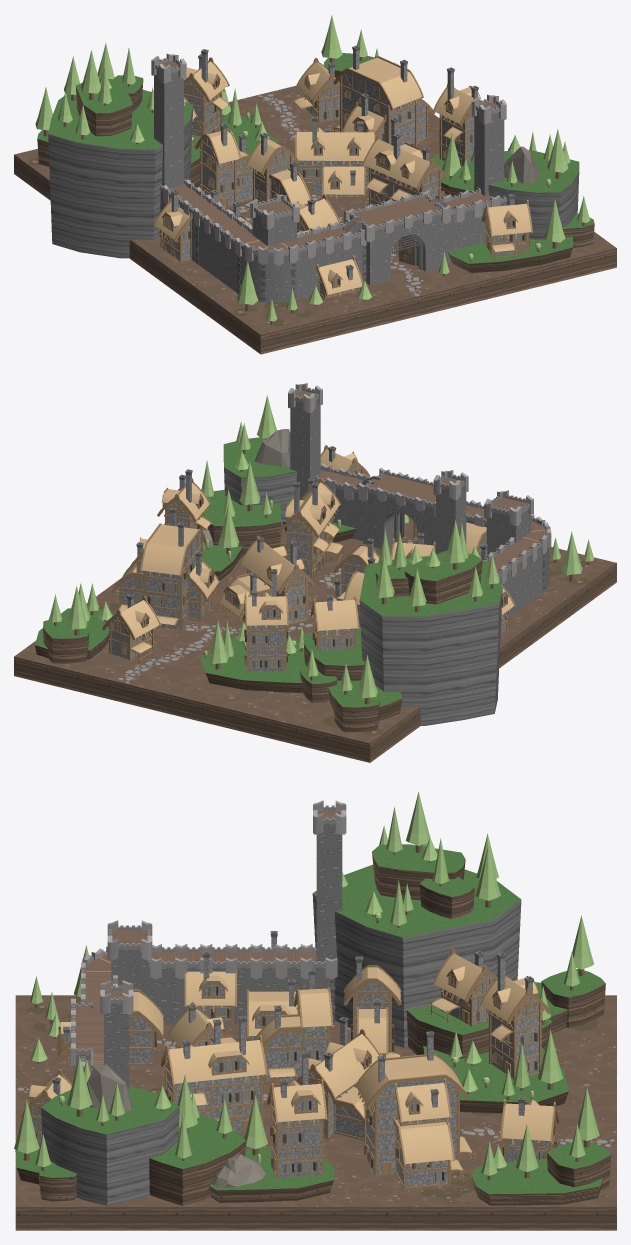
The model's file is castle_village.glb.
3 views of the same model, one above another, from view 1: azimuth 30°, elevation 25°; view 2: azimuth 150°, elevation 25°; view 3: azimuth 270°, elevation 25° (orthographic). The views are drawn at different scales.
Parts seen in each view (by area): view 1: pCube2216, pCube6441, group413_pCube3685, polySurface848, pCube6499, pCube3448, pCube6442, pCube6498, pCube3727, group119_pCube835, pCube6452, group119_pCube836 (+37 smaller); view 2: pCube2216, group413_pCube3685, pCube6451, polySurface848, pCube6499, pCube3448, pCube6504, pCube6452, pCube6497, pCube6442, pCube6501, group119_pCube836 (+40 smaller); view 3: pCube2216, pCube6450, group413_pCube3685, pCube6442, pCube3448, pCube3428, pCube6504, pCube6454, pCube5259, pCube6499, group119_pCube837, pCube6498 (+52 smaller).
Boxes of the visible parts, <box> form: pCube2216: <box>48,89,193,258</box>; pCube6441: <box>260,248,616,354</box>; group413_pCube3685: <box>333,45,434,146</box>; polySurface848: <box>343,190,452,285</box>; pCube6499: <box>295,116,375,198</box>; pCube3448: <box>362,117,447,205</box>; pCube6442: <box>488,150,579,239</box>; pCube6498: <box>151,53,186,187</box>; pCube3727: <box>195,123,252,208</box>; group119_pCube835: <box>283,219,366,299</box>; pCube6452: <box>14,155,260,353</box>; group119_pCube836: <box>194,202,258,292</box>; pCube2216: <box>359,556,502,725</box>; group413_pCube3685: <box>111,507,219,634</box>; pCube6451: <box>14,656,370,762</box>; polySurface848: <box>357,467,435,548</box>; pCube6499: <box>218,535,315,624</box>; pCube3448: <box>278,478,343,584</box>; pCube6504: <box>244,569,288,672</box>; pCube6452: <box>370,563,616,762</box>; pCube6497: <box>288,383,322,499</box>; pCube6442: <box>223,437,296,532</box>; pCube6501: <box>200,636,306,692</box>; group119_pCube836: <box>483,537,542,617</box>; pCube2216: <box>312,864,521,1047</box>; pCube6450: <box>15,1207,616,1230</box>; group413_pCube3685: <box>354,1031,473,1189</box>; pCube6442: <box>41,1085,179,1205</box>; pCube3448: <box>160,1016,267,1133</box>; pCube3428: <box>267,1051,327,1178</box>; pCube6504: <box>479,952,550,1079</box>; pCube6454: <box>253,968,333,1088</box>; pCube5259: <box>149,1114,245,1205</box>; pCube6499: <box>296,1017,380,1140</box>; group119_pCube837: <box>231,944,337,1024</box>; pCube6498: <box>313,800,346,962</box>.
Bounding box in the file's own units: 1.26 × 0.5728 × 1.34.
Materials: 31 (14 with a texture image).
